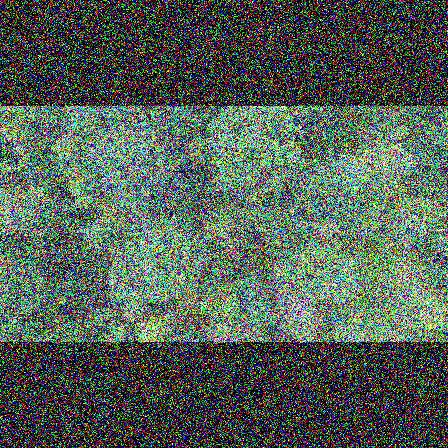Dead: (273, 283, 315, 324), (217, 227, 249, 268), (222, 325, 263, 342)
